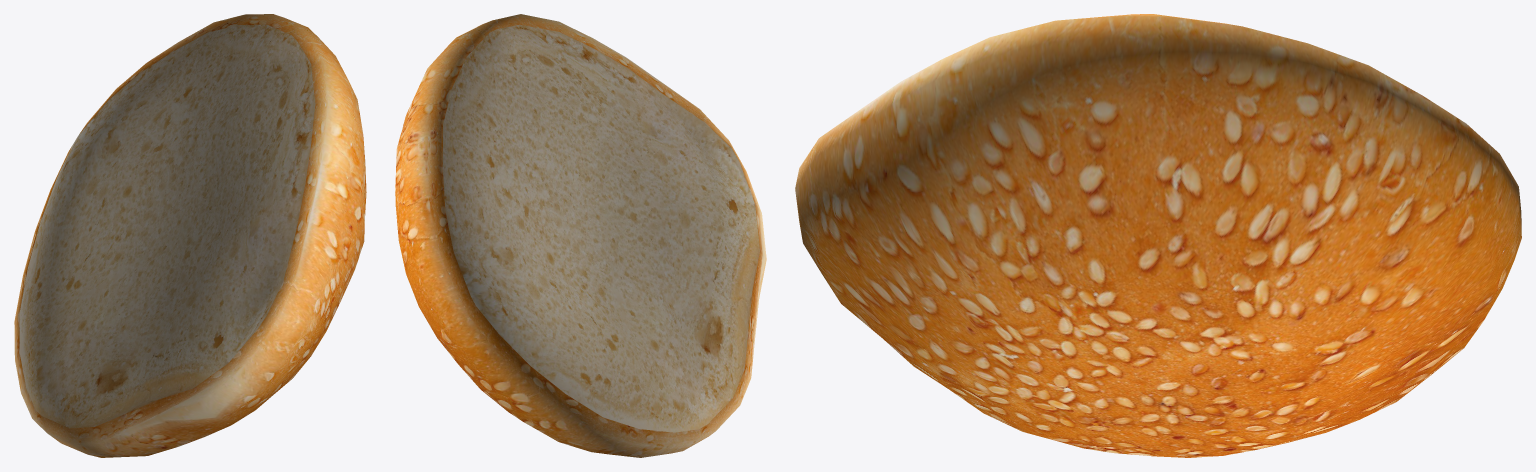
Rendered from bun.obj.
3 renders of one model, left to right at view 1: azimuth 30°, elevation 25°; view 2: azimuth 150°, elevation 25°; view 3: azimuth 270°, elevation 25°, orthographic. The views are drawn at different scales.
Visible parts, largest first — view 1: dynamic; view 2: dynamic; view 3: dynamic.
Part boxes in pixels (x1=…): dynamic: x1=14, y1=14, x2=366, y2=457; dynamic: x1=395, y1=14, x2=766, y2=457; dynamic: x1=795, y1=14, x2=1521, y2=457.
Size of the model in its own units: 27.68 by 34.13 by 40.31.
Materials: 1 (1 with a texture image).
